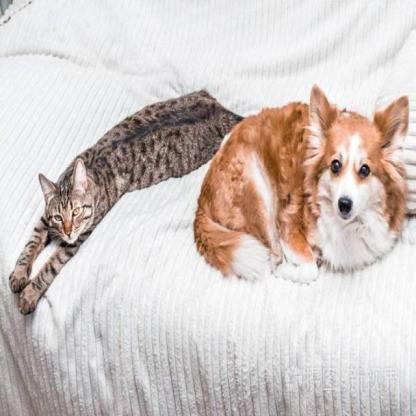cat: (4, 91, 193, 309)
dog: (198, 95, 402, 298)
